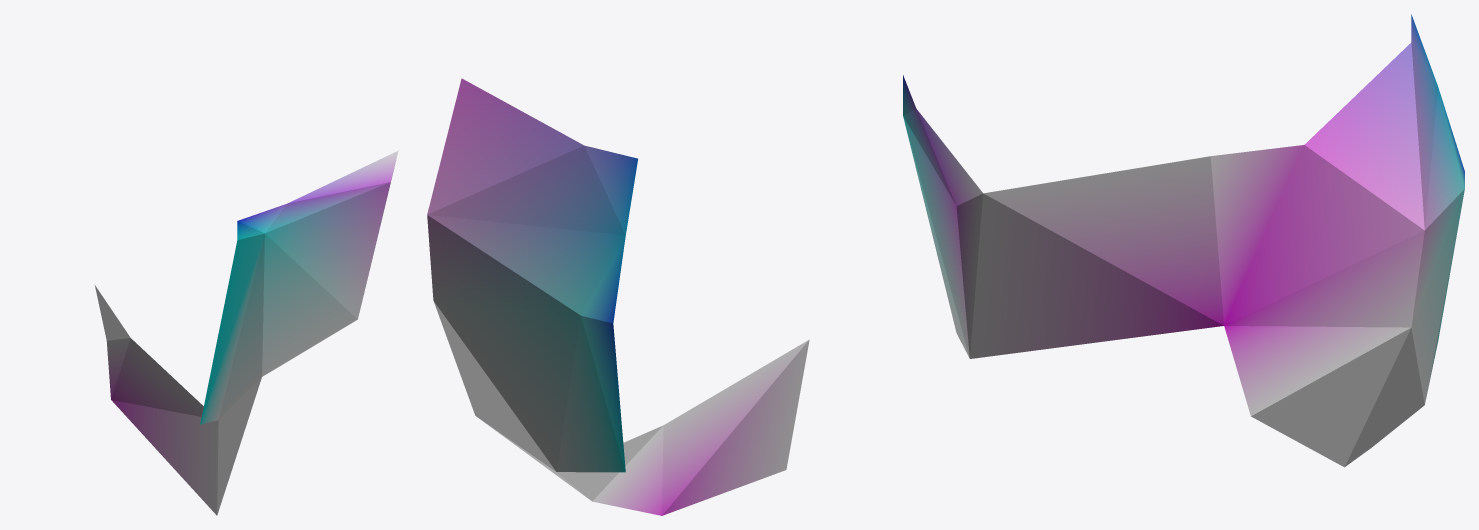
The picture shows the model from 3 angles, left to right: view 1: azimuth 30°, elevation 25°; view 2: azimuth 150°, elevation 25°; view 3: azimuth 270°, elevation 25°; orthographic projection. The views are drawn at different scales.
Visible parts, largest first — view 1: model_114A; view 2: model_114A; view 3: model_114A.
Boxes of the visible parts, x1,y1,x2,y2 form: model_114A: (95,150,398,515); model_114A: (427,78,809,515); model_114A: (903,14,1464,467).
Bounding box in the file's own units: 24 × 40 × 42.
